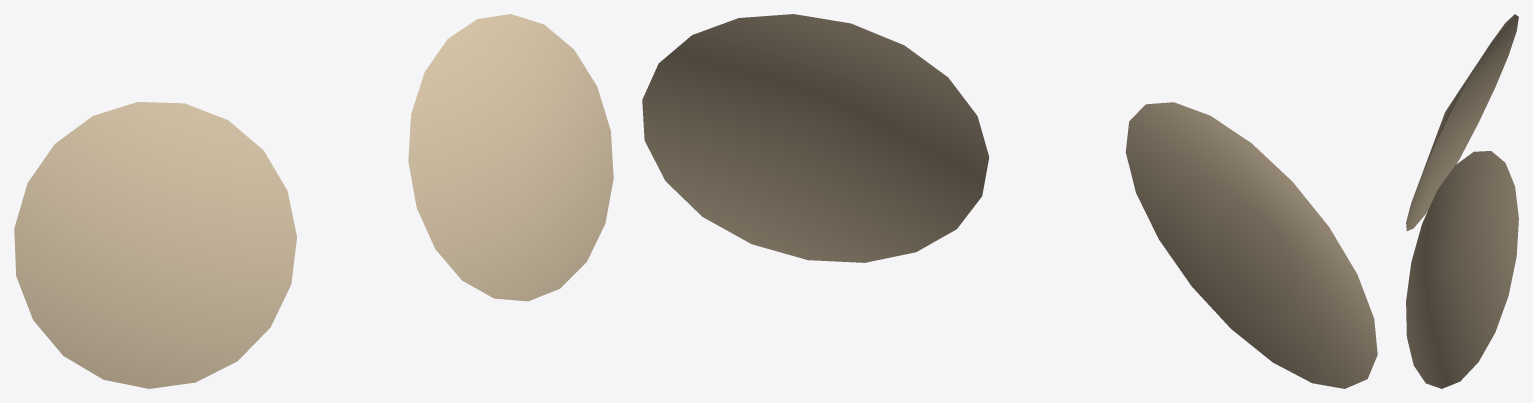
The model's file is S12_Plant04_L2_Eye.glb.
3 views of the same model, side by side, from view 1: azimuth 30°, elevation 25°; view 2: azimuth 150°, elevation 25°; view 3: azimuth 270°, elevation 25° (orthographic). The views are drawn at different scales.
Parts seen in each view (by area): view 1: S12_Plant04_L2_Eye__Eye_M__surface0__lod0; view 2: S12_Plant04_L2_Eye__Eye_M__surface0__lod0; view 3: S12_Plant04_L2_Eye__Eye_M__surface0__lod0.
Boxes of the visible parts, box(x1,y1,x2,y2) form: S12_Plant04_L2_Eye__Eye_M__surface0__lod0: box(14, 14, 613, 388); S12_Plant04_L2_Eye__Eye_M__surface0__lod0: box(642, 14, 1377, 388); S12_Plant04_L2_Eye__Eye_M__surface0__lod0: box(1406, 14, 1518, 388).
Size of the model in its own units: 0.5965 by 0.2337 by 0.1162.
